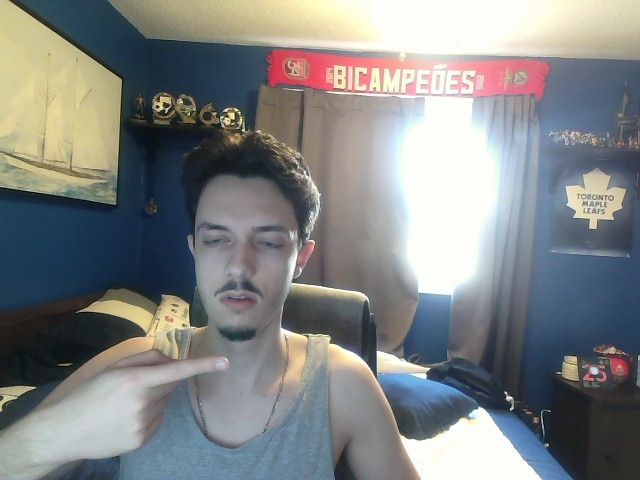Left: (60, 348, 229, 464)
